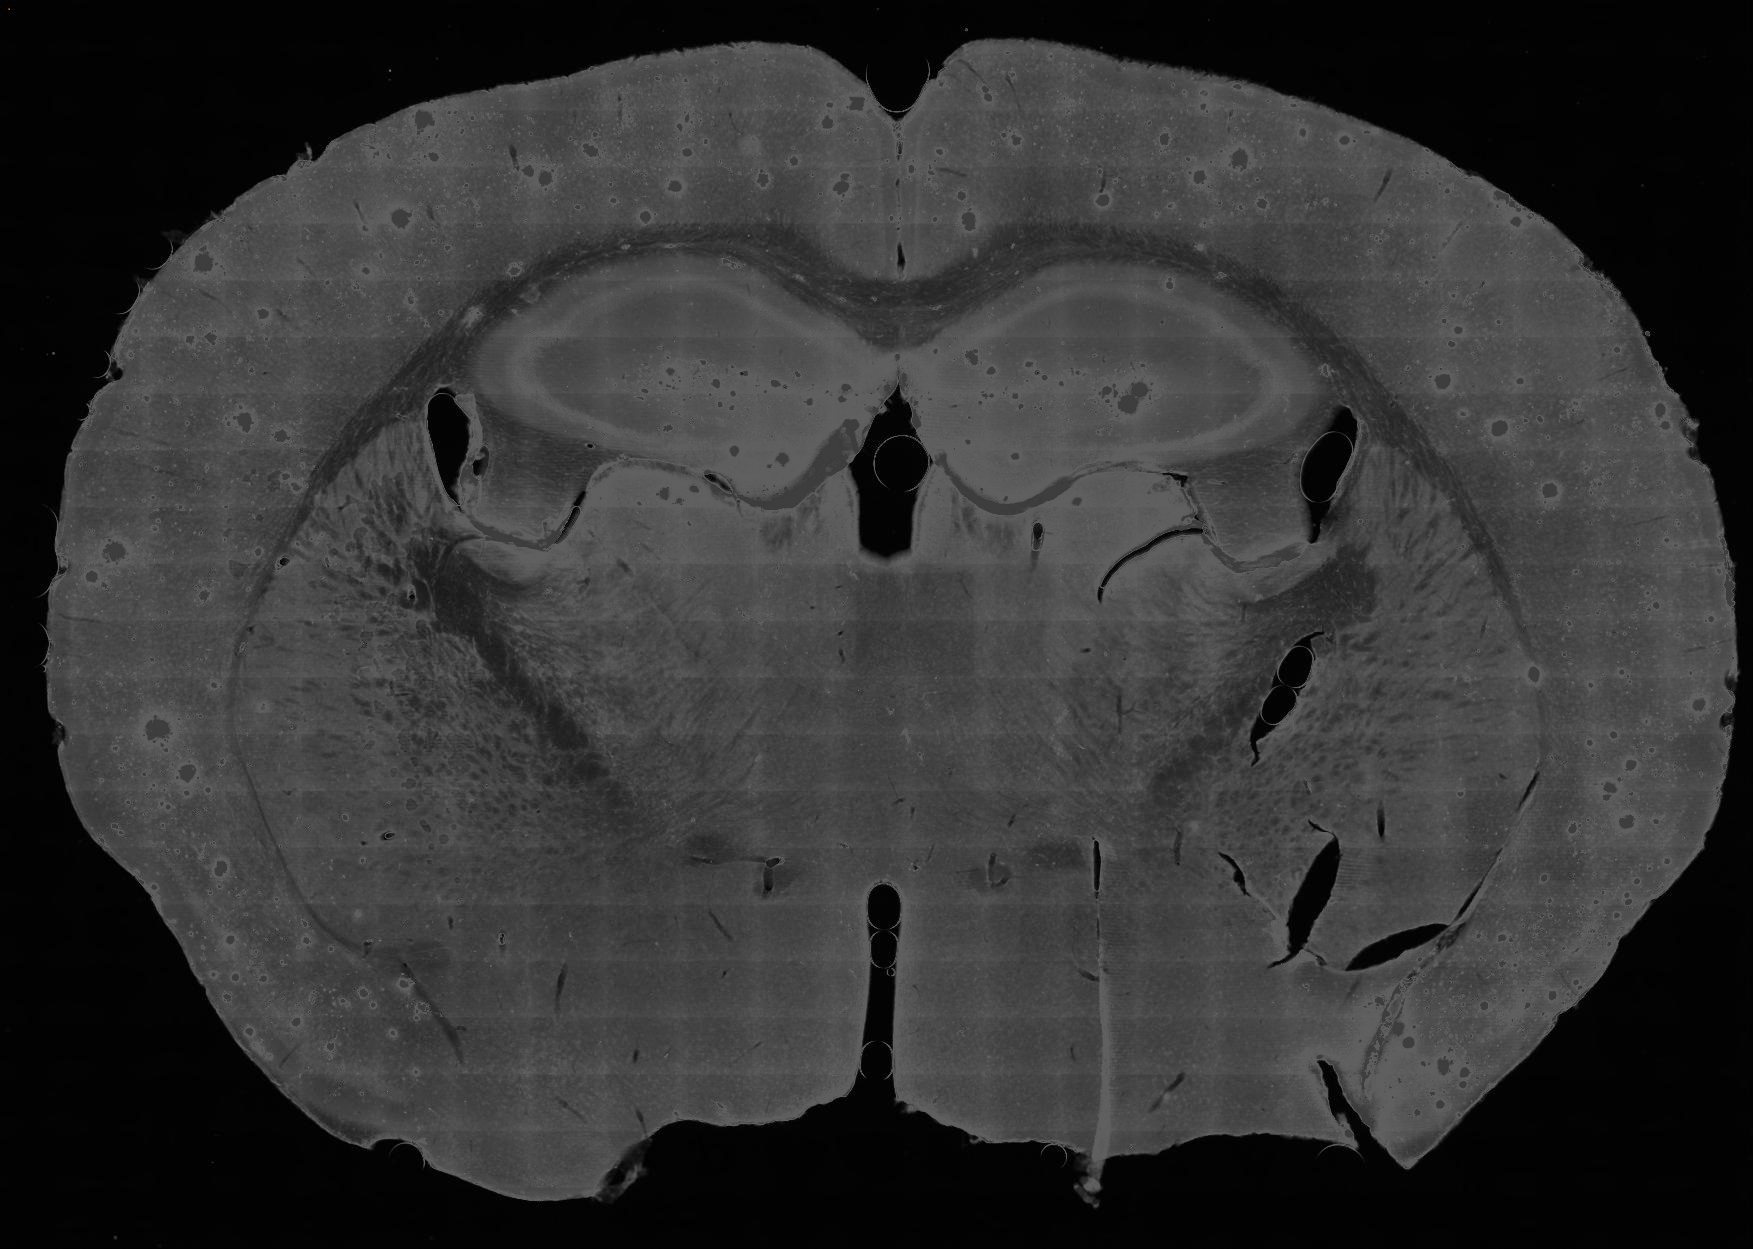Cerebral nuclei: (232, 410, 455, 952), (1348, 437, 1544, 926)
Hippocampal formation: (478, 254, 900, 511), (899, 262, 1318, 515)
Hypothalamus: (608, 815, 881, 1126)
Retrosplenial area: (897, 59, 1006, 283), (795, 59, 900, 284)
Somatosensory area: (1226, 91, 1704, 516), (80, 82, 587, 473)
Thalamus: (493, 462, 887, 873), (883, 458, 1249, 873)
